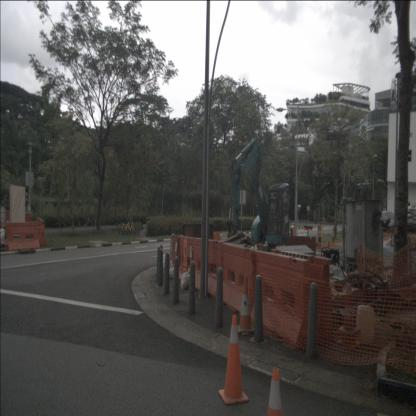barrier: (249, 250, 311, 350), (270, 249, 335, 341), (221, 243, 257, 318), (192, 238, 225, 302), (5, 223, 40, 251), (288, 236, 316, 266), (177, 237, 194, 285), (166, 233, 183, 278), (4, 210, 34, 230)
cone: (218, 315, 249, 405), (236, 275, 254, 334), (266, 368, 285, 415), (34, 218, 47, 246)
